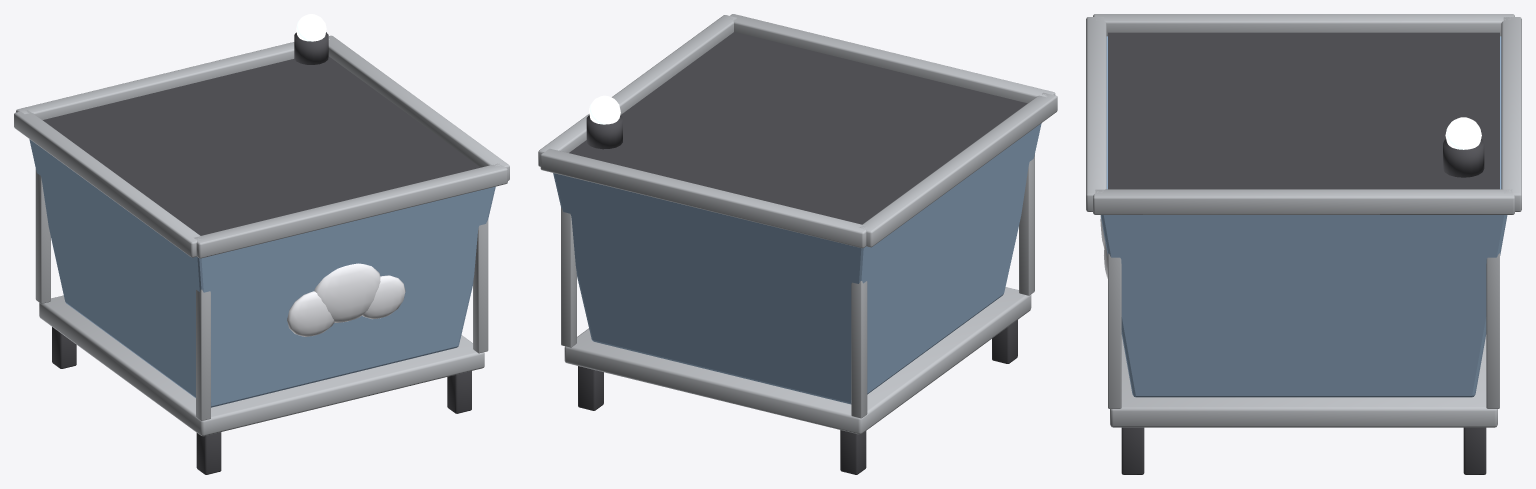
File: SkyBin.glb
The picture shows the model from 3 angles, left to right: view 1: azimuth 30°, elevation 25°; view 2: azimuth 150°, elevation 25°; view 3: azimuth 270°, elevation 25°; orthographic projection. The views are drawn at different scales.
Visible parts, largest first — view 1: SkyBin; view 2: SkyBin; view 3: SkyBin.
Part boxes in pixels (bbox=[...]): SkyBin: bbox=[14, 14, 509, 474]; SkyBin: bbox=[538, 14, 1057, 474]; SkyBin: bbox=[1086, 14, 1521, 474].
Bounding box in the file's own units: 3.82 × 3.36 × 3.82.
